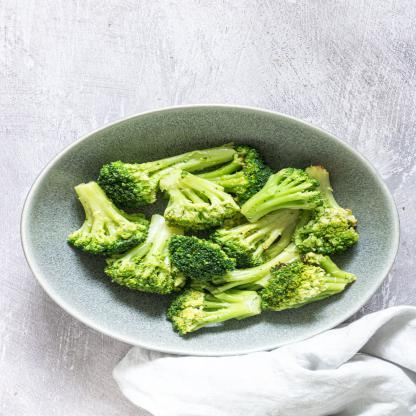broccoli: (58, 142, 365, 336)
